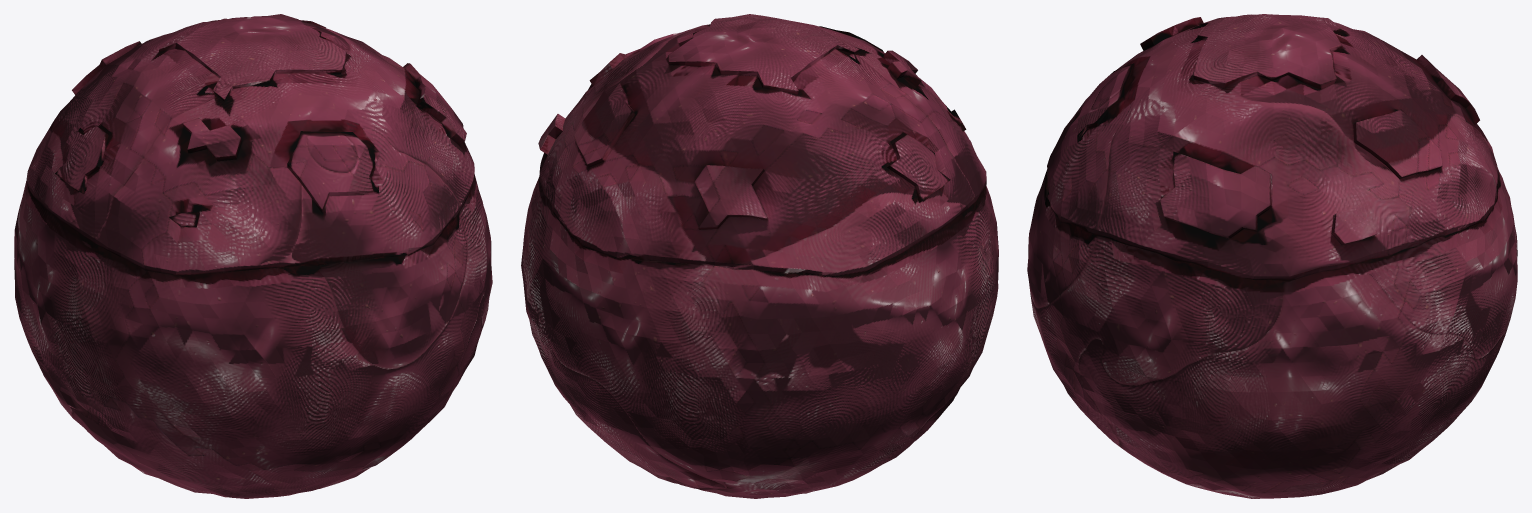
File: claychar2.fbx
3 views of the same model, side by side, from view 1: azimuth 30°, elevation 25°; view 2: azimuth 150°, elevation 25°; view 3: azimuth 270°, elevation 25° (orthographic).
Parts seen in each view (by area): view 1: Icosphere; view 2: Icosphere; view 3: Icosphere.
Boxes of the visible parts, x1,y1,x2,y2 form: Icosphere: (14,14,492,498); Icosphere: (521,14,998,498); Icosphere: (1027,14,1517,498).
Bounding box in the file's own units: 835 × 847 × 847.
1 material, 1 textured.
